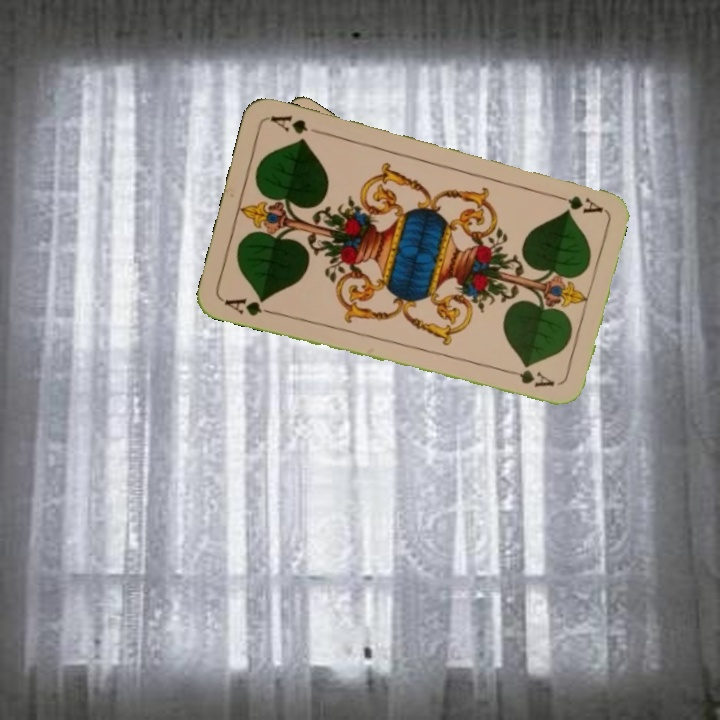GA: (547, 189, 605, 216), (220, 293, 279, 319)
